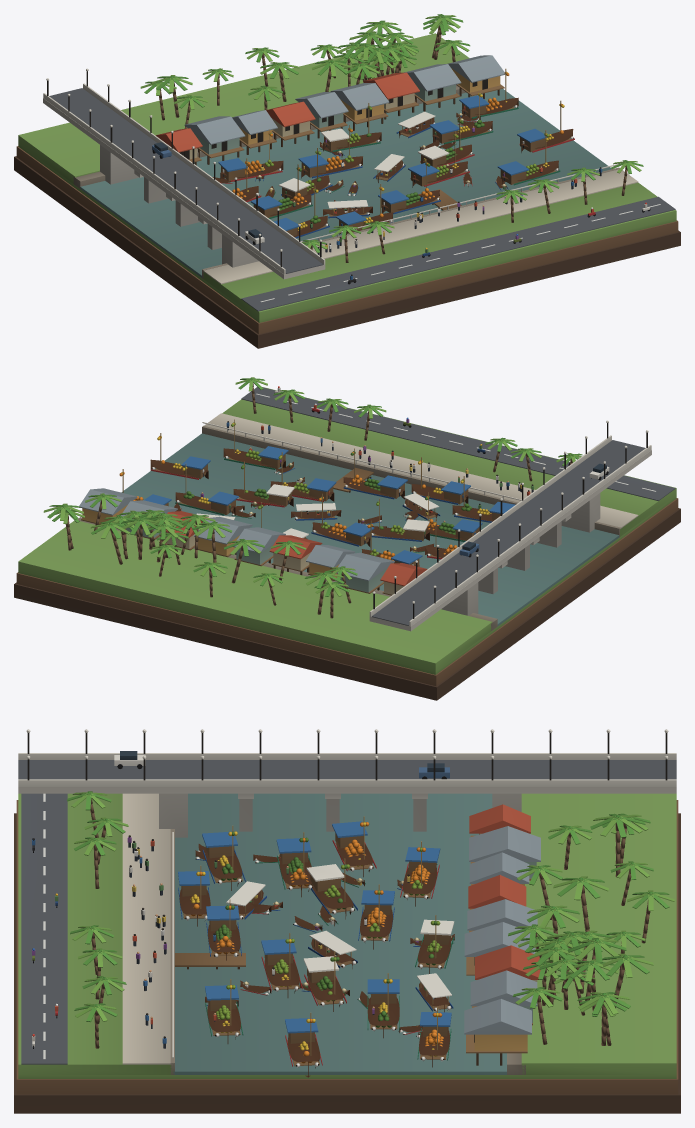
The model's file is cho-noi-cai-rang.glb.
3 views of the same model, one above another, from view 1: azimuth 30°, elevation 25°; view 2: azimuth 150°, elevation 25°; view 3: azimuth 270°, elevation 25° (orthographic). The views are drawn at different scales.
Visible parts, largest first — view 1: CR_CR_bank; view 2: CR_CR_bank; view 3: CR_CR_bank.
Boxes of the visible parts, bbox=[...] form: CR_CR_bank: bbox=[14, 14, 680, 348]; CR_CR_bank: bbox=[14, 377, 680, 700]; CR_CR_bank: bbox=[14, 729, 680, 1113].
Bounding box in the file's own units: 92 × 18.5 × 92.
Materials: 1 (1 with a texture image).
